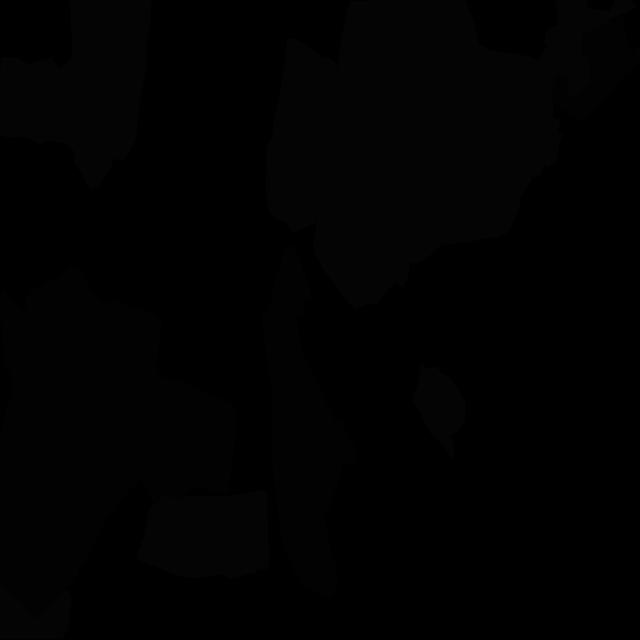cardboard: (0, 266, 162, 618), (261, 245, 357, 598), (116, 366, 237, 505), (552, 16, 640, 121)
soft_plastic: (313, 0, 638, 309), (0, 0, 152, 190), (266, 38, 339, 233), (137, 490, 270, 579), (412, 365, 465, 460), (0, 580, 72, 639)
